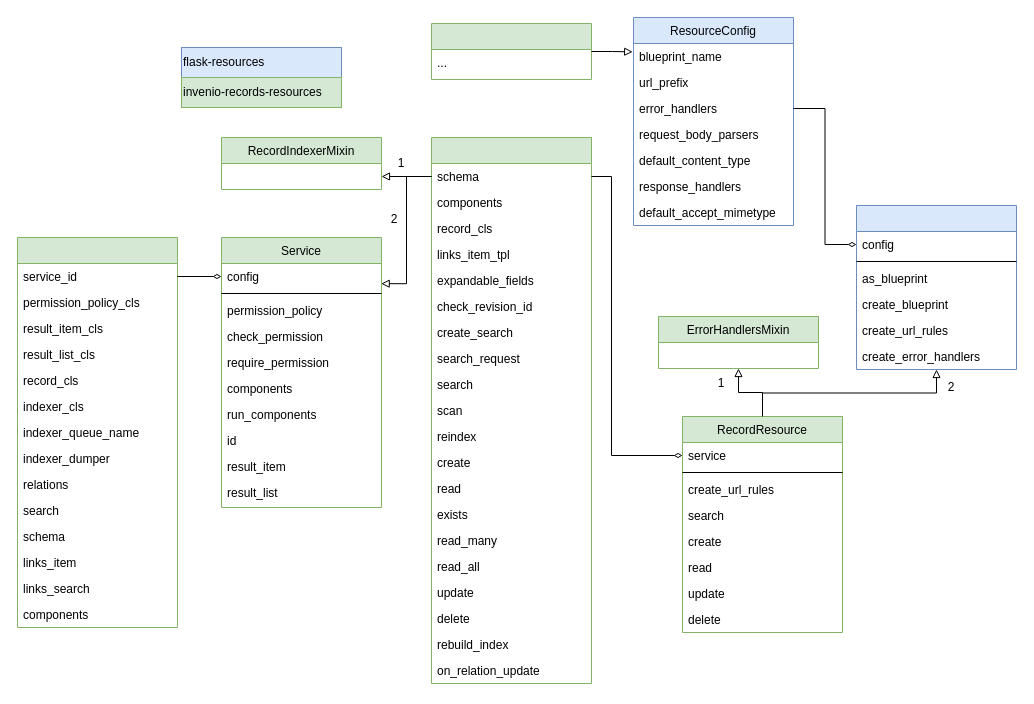
Image size: 1034x704. Some labels were removed from this diagram. The box of each missing label's shape, as (x1, y1, x2, y2) in pixels:
RecordResourceConfig: (430, 22, 592, 80)
RecordService: (430, 136, 592, 684)
RecordServiceConfig: (16, 236, 178, 628)
Resource: (856, 204, 1016, 370)
